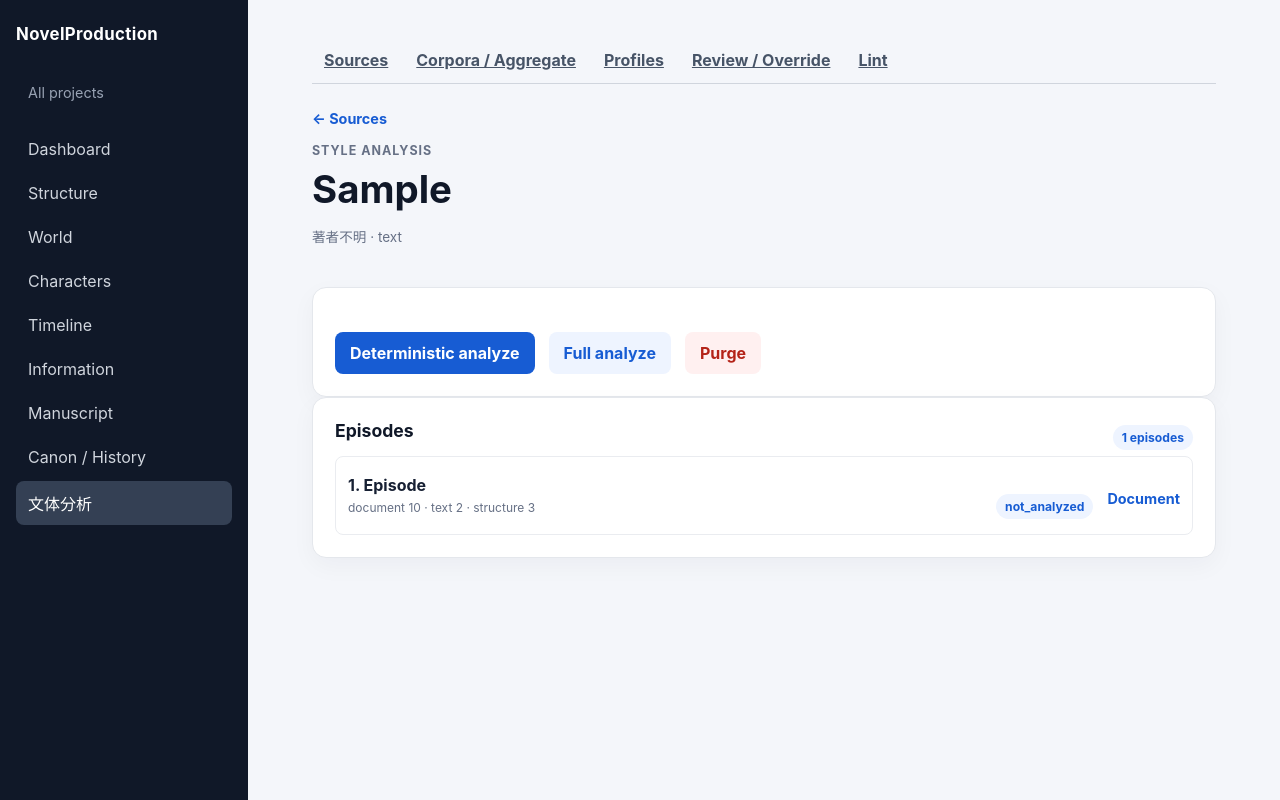
it: style analysis WebUI flows › polls an analysis job and renders its terminal result
Expected: the heading "Sample" is shown, [312,166,452,212]
Step 1. Click the button "Deterministic analyze" → (435, 353), box [335,332,535,374]
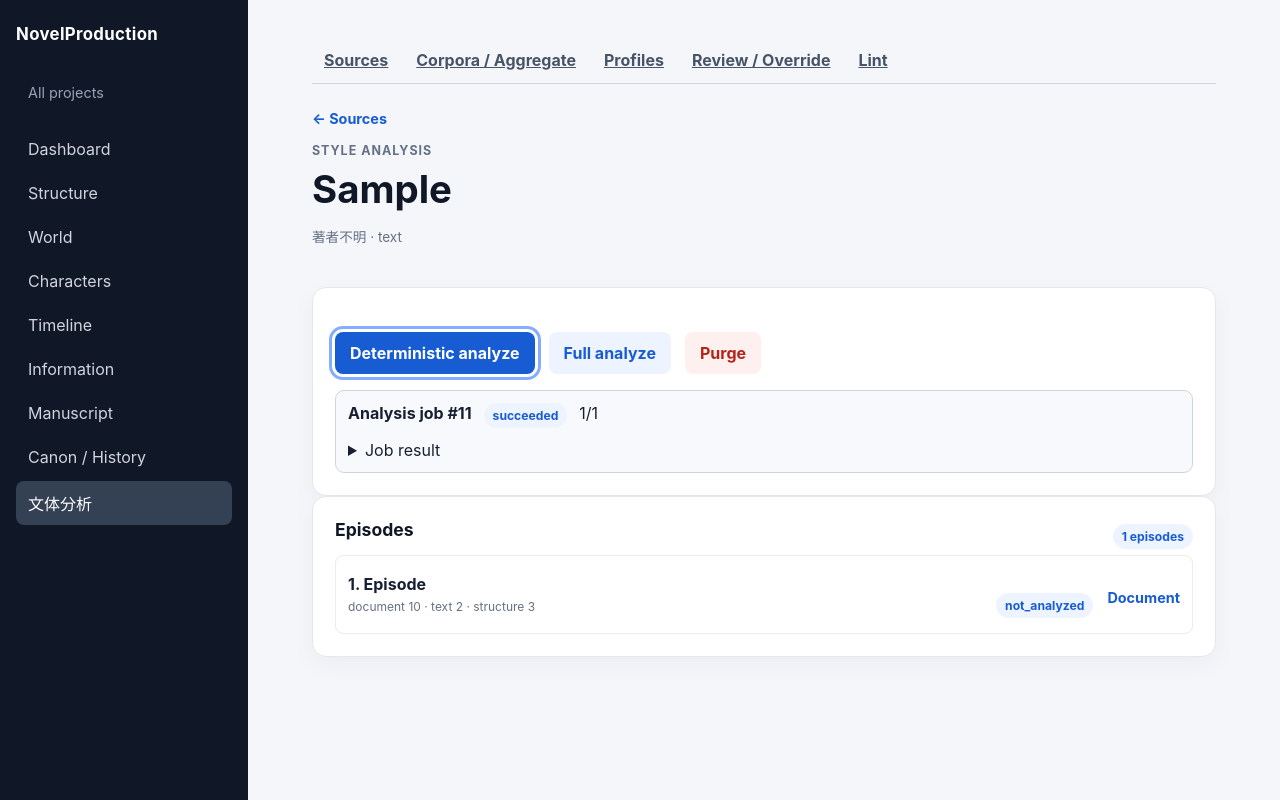
Result: the text "Analysis job #11" is shown at [348,403,472,428]
Result: the text "succeeded" is shown at [484,403,567,428]
Step 2. Click the link "Document" → (1144, 597), box [1107,589,1180,606]
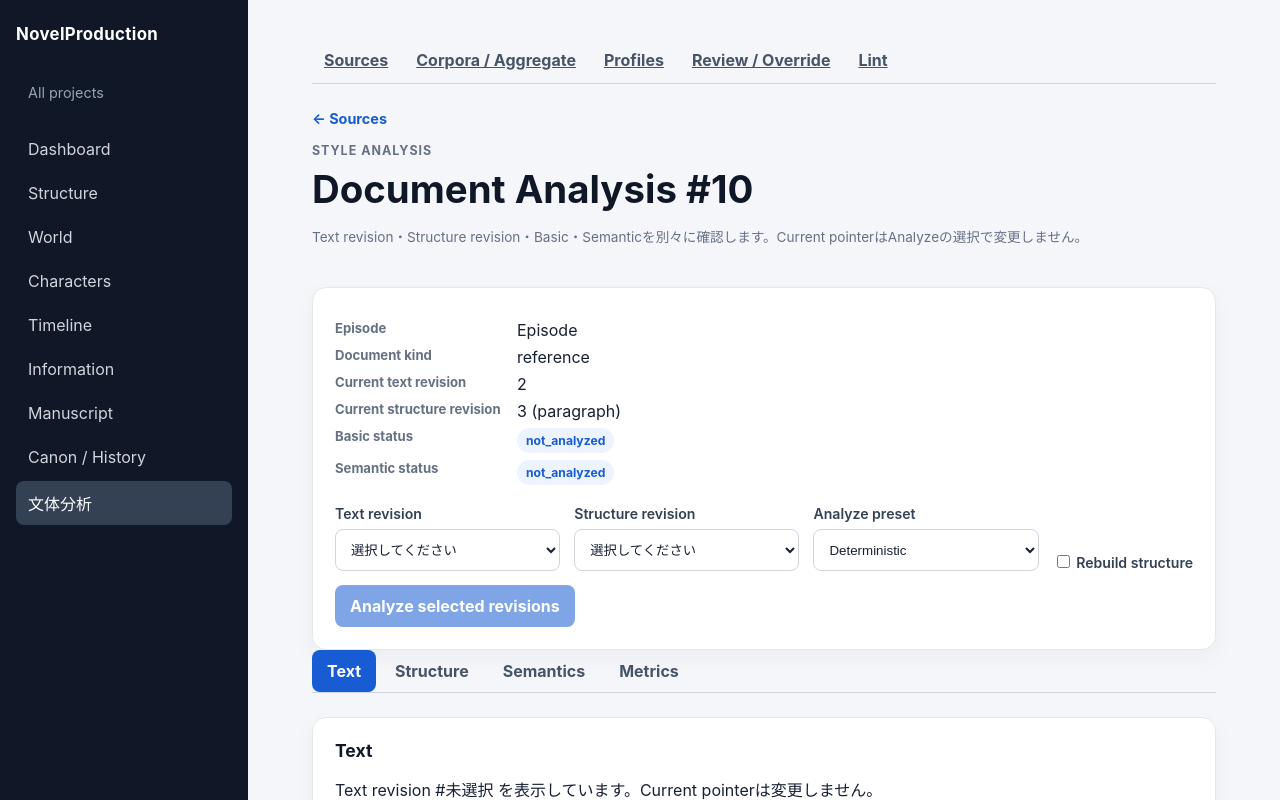
Result: the heading "Document Analysis #10" is shown at [312,166,753,212]
